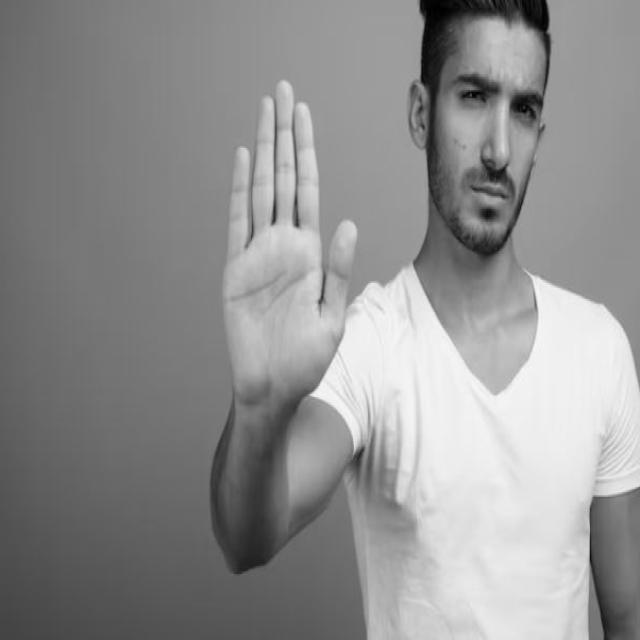stop: (218, 72, 362, 429)
